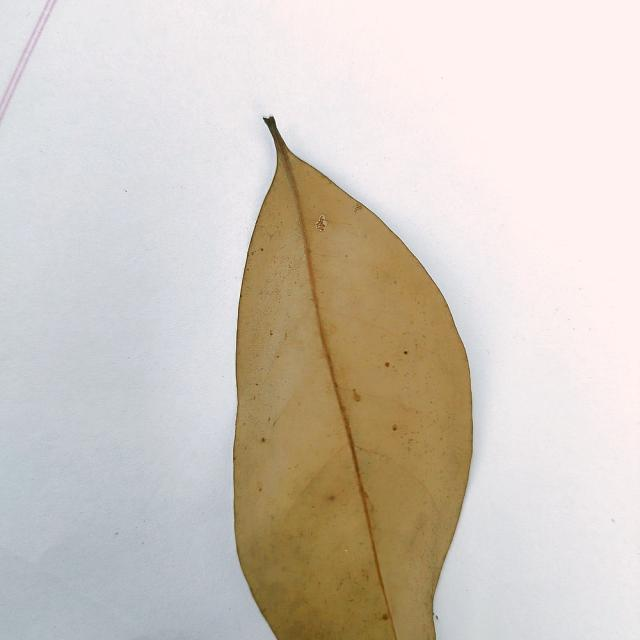Dry_Leaf-Lychee: (232, 118, 474, 639)
